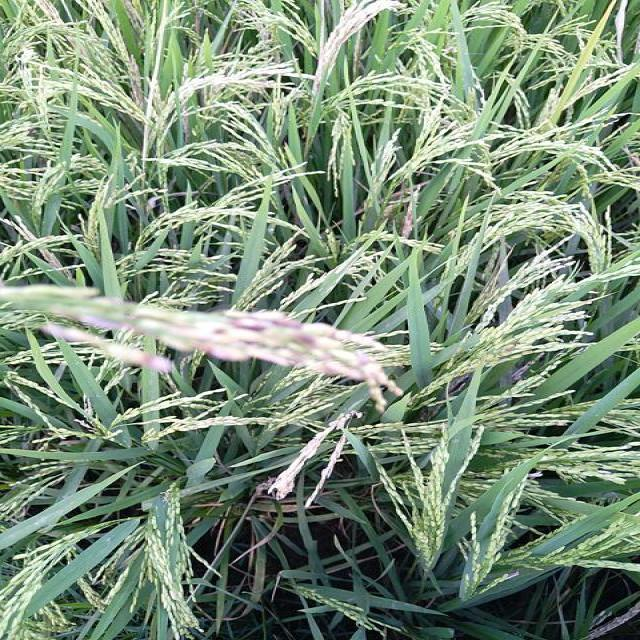Panicle Blight: (241, 337, 364, 380), (223, 309, 303, 334), (193, 339, 245, 362), (132, 349, 173, 374), (291, 334, 315, 348)
